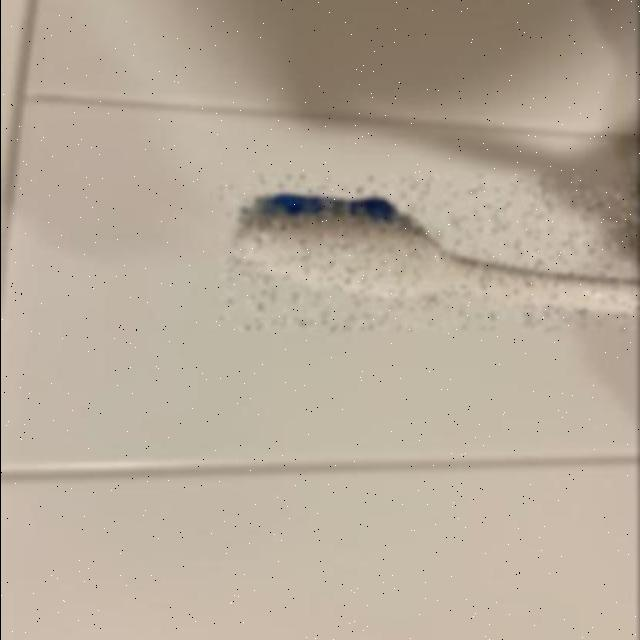toothbrush: (222, 176, 640, 330)
